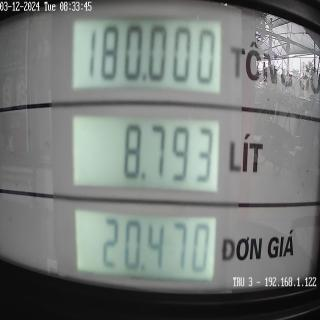screen: (62, 3, 228, 315)
